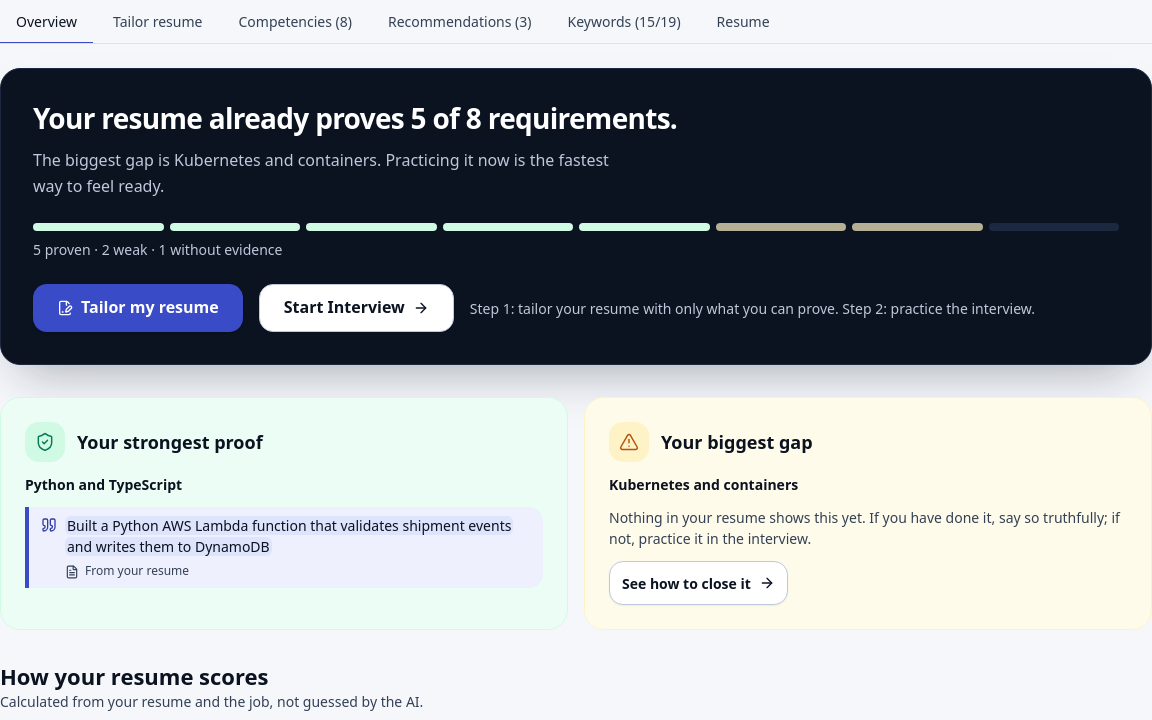
Tailor resume tab (design §7.6) › lists missing keywords as gaps with a confirmation action, never as additions
The image size is (1152, 720).
Click the tab "Tailor resume": [158, 22] box x1=97 y1=0 x2=218 y2=44
(page scrolled)
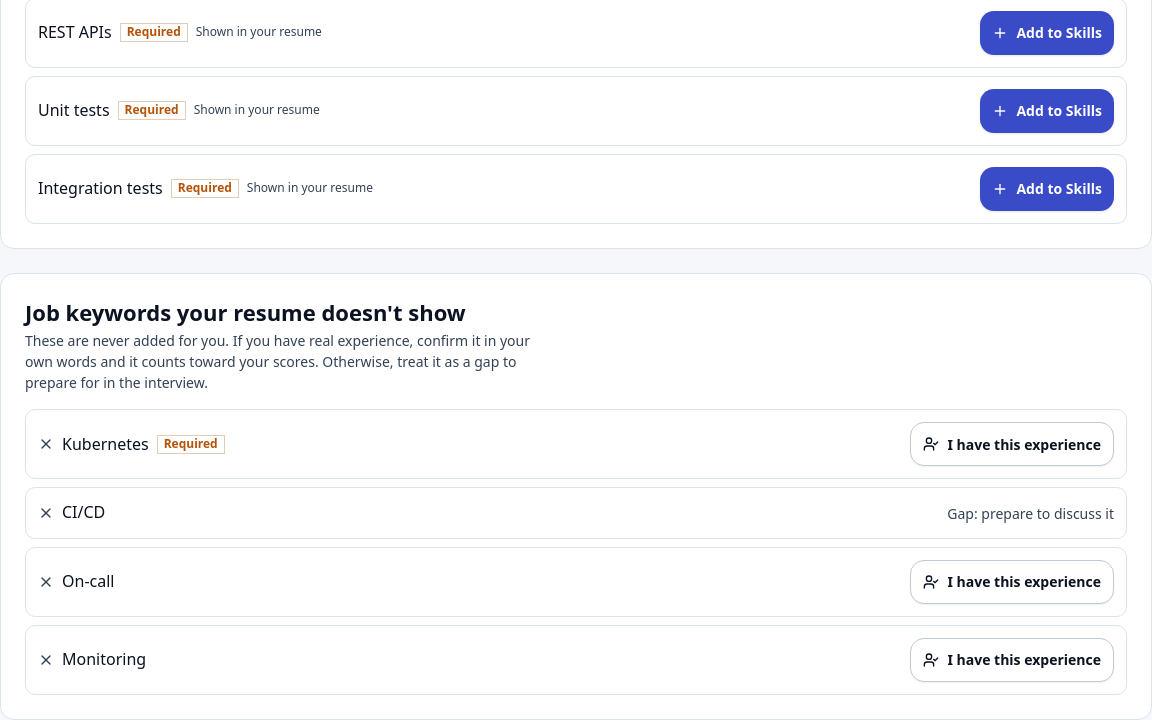
expect the text "Kubernetes" is shown: met, box x1=62 y1=432 x2=149 y2=457
expect the button "I have this experience" in the row of "Kubernetes" is shown: met, box x1=910 y1=422 x2=1114 y2=466
